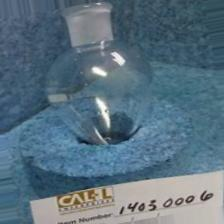Pear shaped flask: (37, 13, 154, 142)
